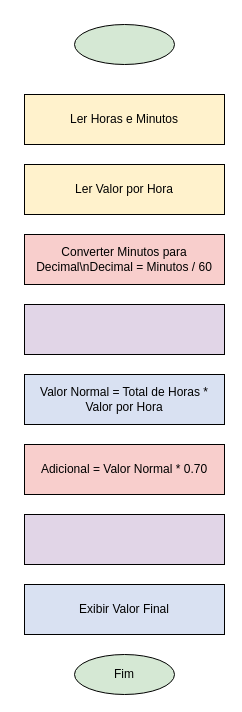
The diagram is 242 pixels wide and 712 high, and some of its shapes have lost their labels. The shapes that lost their labels are listed below. From the top down, each one's centre as x and y in pixels, then its label:
At [124,44]: "Início".
At [124,329]: "Total de Horas = Horas + Decimal".
At [124,539]: "Valor Final = Valor Normal + Adicional".
